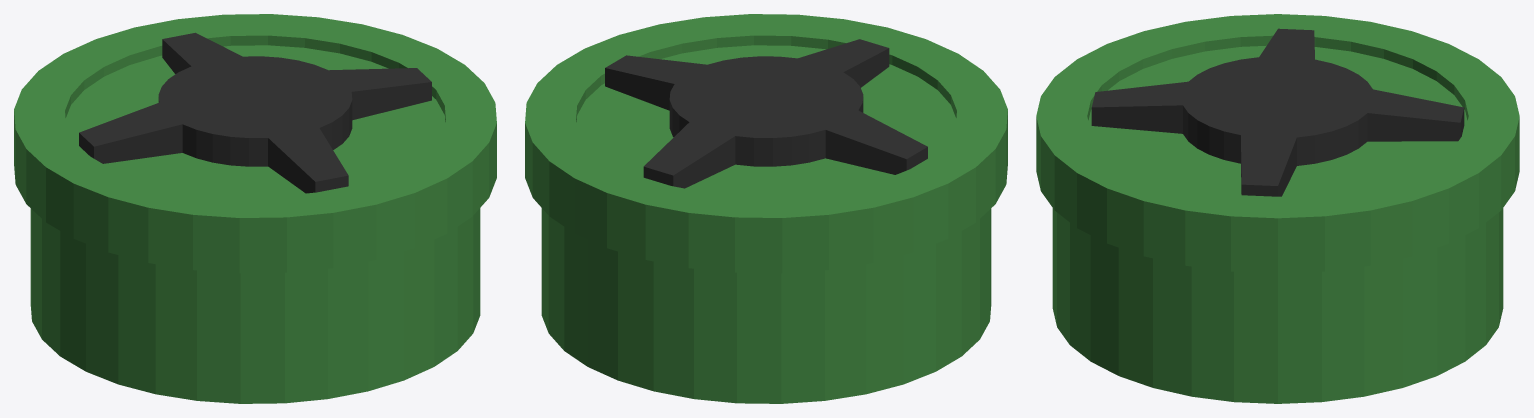
Rendered from mine.glb.
The picture shows the model from 3 angles, left to right: view 1: azimuth 30°, elevation 25°; view 2: azimuth 150°, elevation 25°; view 3: azimuth 270°, elevation 25°; orthographic projection.
Parts seen in each view (by area): view 1: Cylinder, Cylinder.001; view 2: Cylinder, Cylinder.001; view 3: Cylinder, Cylinder.001.
Boxes of the visible parts, x1,y1,x2,y2 form: Cylinder: (14,14,496,403); Cylinder.001: (79,32,431,193); Cylinder: (525,14,1007,403); Cylinder.001: (605,39,927,188); Cylinder: (1036,14,1519,403); Cylinder.001: (1091,28,1464,196).
Bounding box in the file's own units: 2 × 0.9652 × 2.
